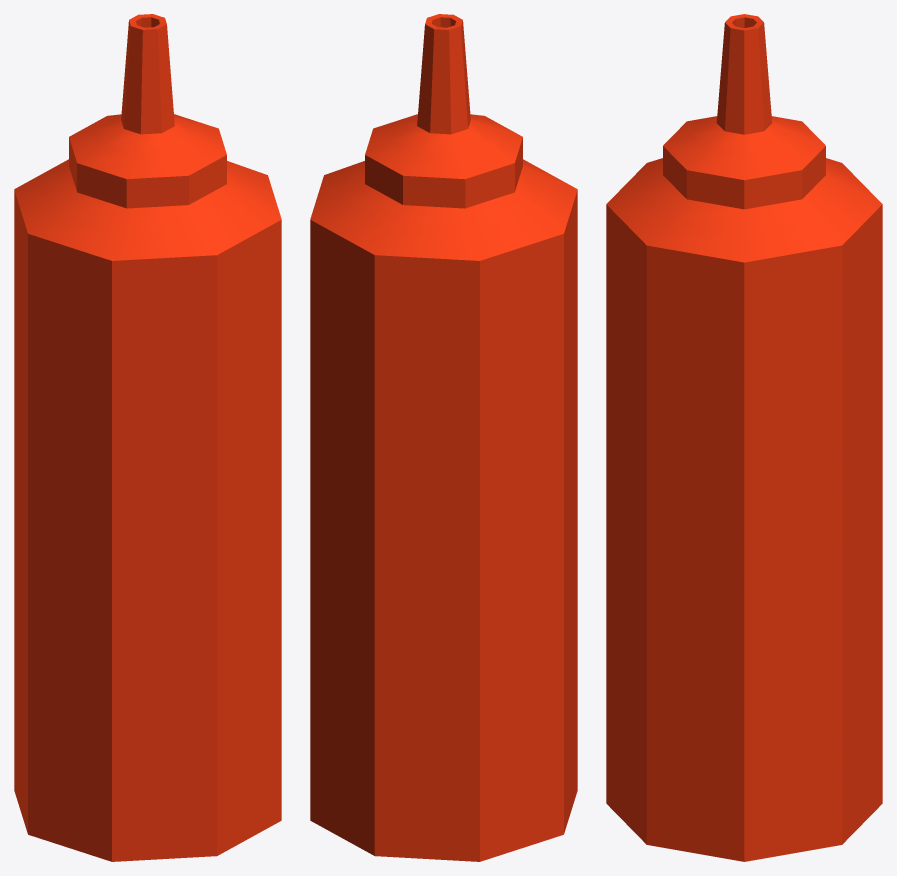
The model's file is SauceA.fbx.
3 renders of one model, left to right at view 1: azimuth 30°, elevation 25°; view 2: azimuth 150°, elevation 25°; view 3: azimuth 270°, elevation 25°, orthographic.
Visible parts, largest first — view 1: SauceA; view 2: SauceA; view 3: SauceA.
Boxes of the visible parts, left/top/right/bottom form: SauceA: left=14, top=14, right=281, bottom=861; SauceA: left=310, top=14, right=577, bottom=861; SauceA: left=606, top=14, right=882, bottom=861.
Bounding box in the file's own units: 85.64 × 267 × 85.64.
